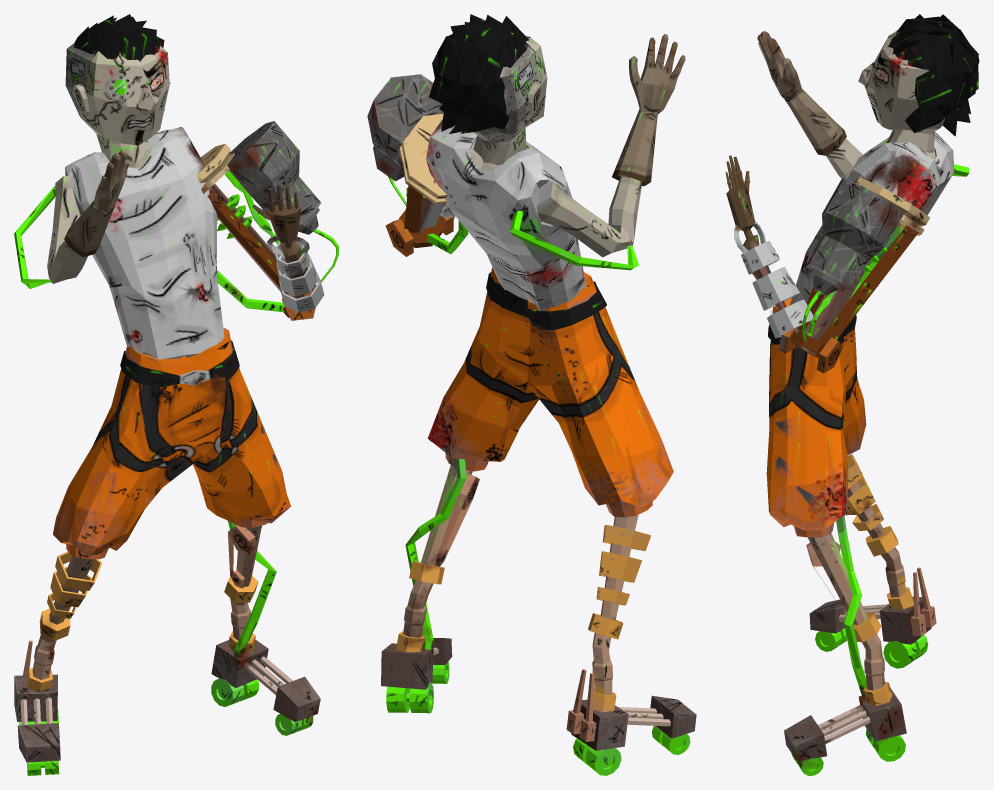
Rendered from CyborgFINALAnimation_000006.obj.
3 renders of one model, left to right at view 1: azimuth 30°, elevation 25°; view 2: azimuth 150°, elevation 25°; view 3: azimuth 270°, elevation 25°, orthographic. The views are drawn at different scales.
Visible parts, largest first — view 1: CyborgMesh_Cube.002; view 2: CyborgMesh_Cube.002; view 3: CyborgMesh_Cube.002.
Boxes of the visible parts, x1,y1,x2,y2 form: CyborgMesh_Cube.002: (14, 14, 338, 775); CyborgMesh_Cube.002: (367, 14, 696, 775); CyborgMesh_Cube.002: (725, 14, 979, 775).
Bounding box in the file's own units: 4.26 × 9.32 × 3.1.
